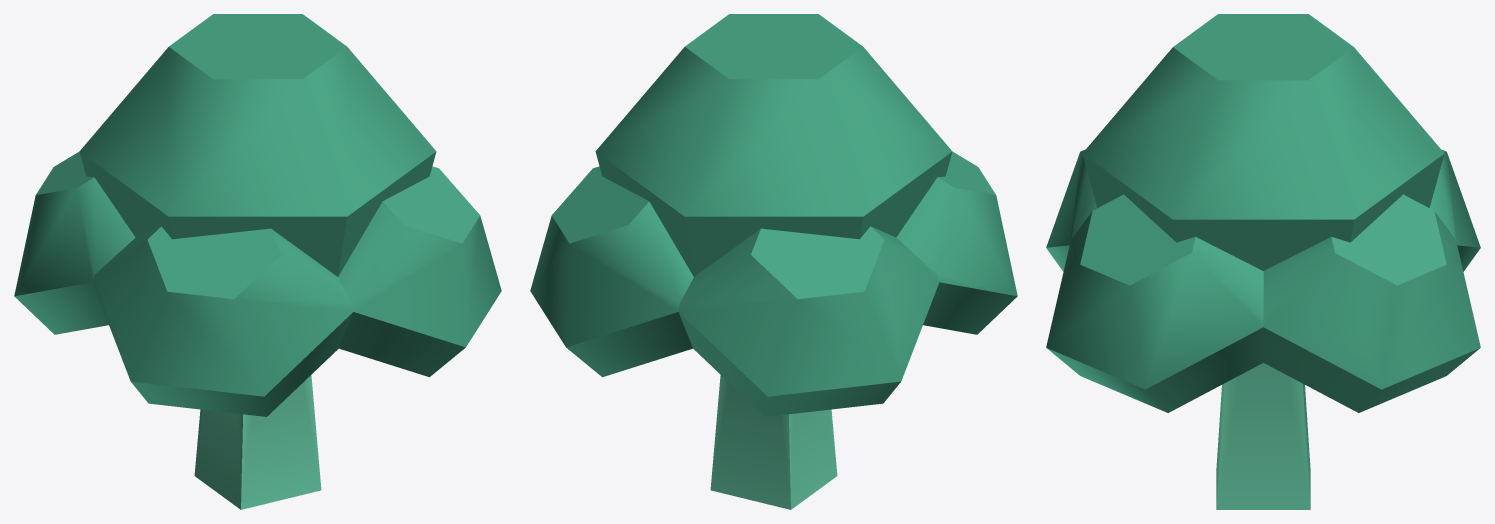
Rendered from Broccoli.glb.
3 renders of one model, left to right at view 1: azimuth 30°, elevation 25°; view 2: azimuth 150°, elevation 25°; view 3: azimuth 270°, elevation 25°, orthographic.
Parts seen in each view (by area): view 1: Broccoli; view 2: Broccoli; view 3: Broccoli.
Part boxes in pixels (left/top/right/bottom): Broccoli: left=14, top=14, right=501, bottom=509; Broccoli: left=530, top=14, right=1017, bottom=509; Broccoli: left=1046, top=14, right=1480, bottom=509.
Size of the model in its own units: 0.3752 by 0.4217 by 0.3752.
